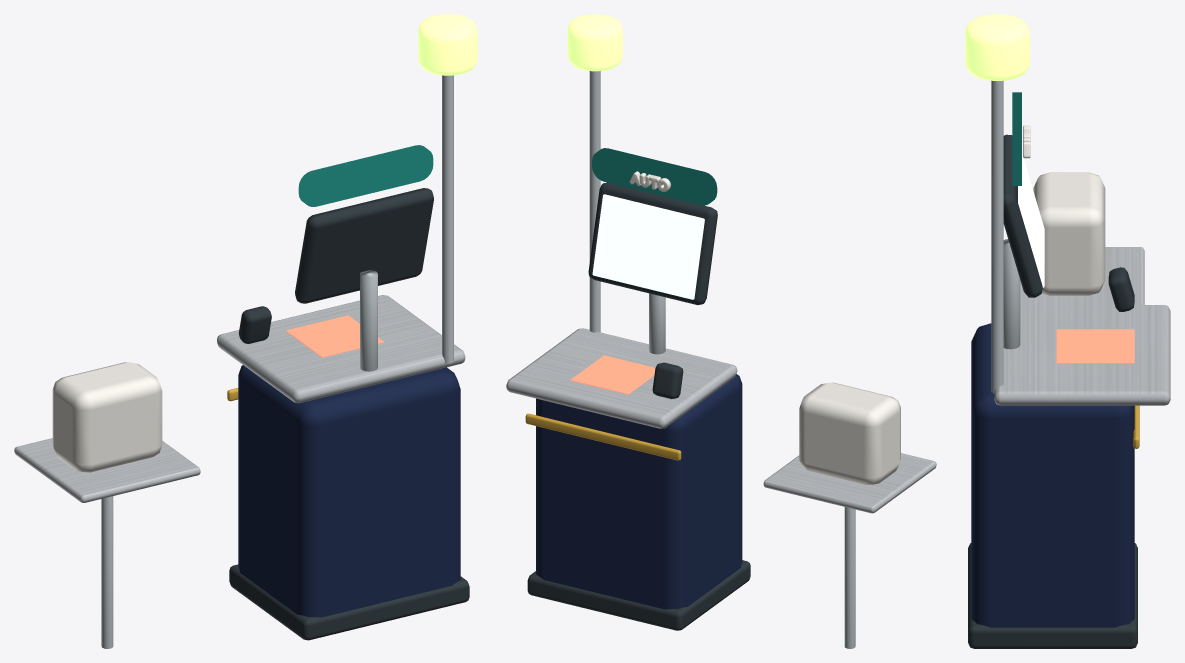
File: kiosk.fbx
The picture shows the model from 3 angles, left to right: view 1: azimuth 30°, elevation 25°; view 2: azimuth 150°, elevation 25°; view 3: azimuth 270°, elevation 25°; orthographic projection. The views are drawn at different scales.
Visible parts, largest first — view 1: Body; view 2: Body; view 3: Body.
Part boxes in pixels (x1,y1,x2,y2): Body: (14,14,477,648); Body: (506,14,936,648); Body: (965,14,1170,648).
Bounding box in the file's own units: 1.51 × 2.1 × 0.6285.
